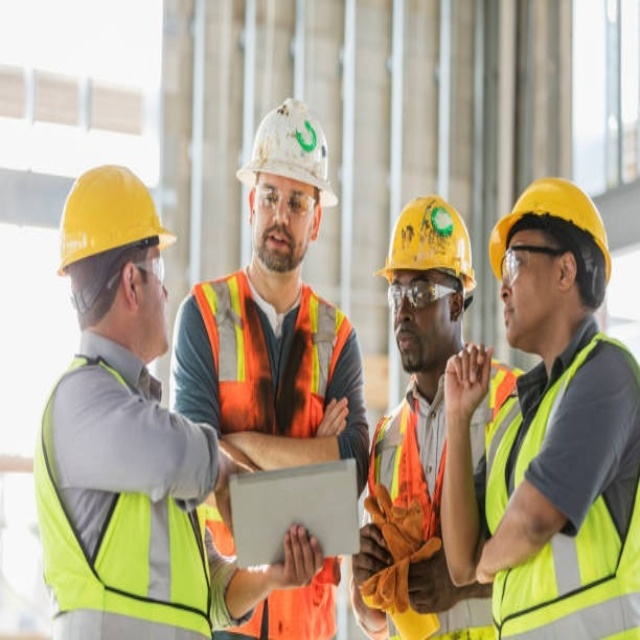Gafas: (502, 244, 568, 286), (388, 280, 464, 313), (254, 185, 318, 217), (121, 251, 165, 292), (463, 292, 474, 313)
Sin_guantes: (406, 540, 479, 616), (270, 523, 333, 590), (442, 340, 493, 419), (352, 523, 396, 599), (315, 393, 348, 438)
Sin_mascara: (260, 227, 292, 260), (392, 323, 418, 361), (501, 298, 523, 337)
